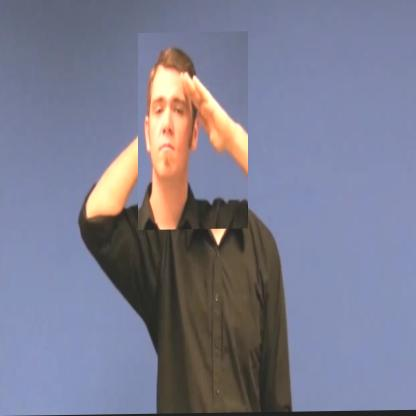Hello: (138, 32, 248, 230)
